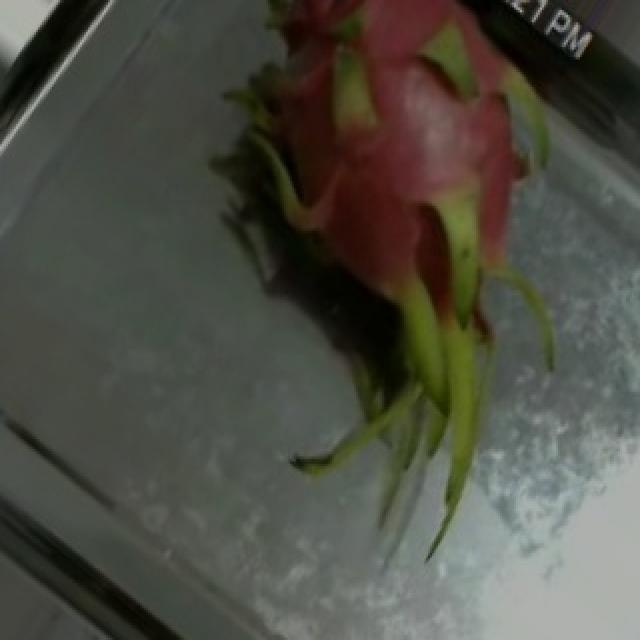fruit: (228, 0, 640, 397)
